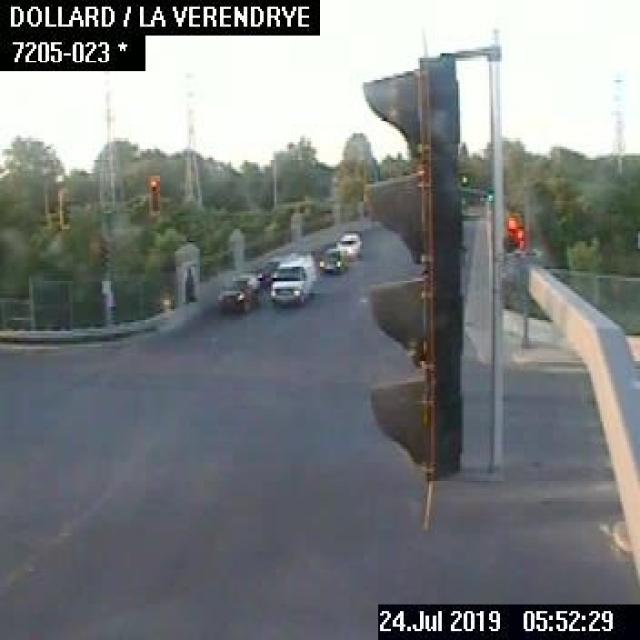vehicle: (268, 252, 315, 305), (211, 285, 248, 309), (335, 231, 363, 260), (317, 246, 346, 273), (230, 268, 261, 292)
